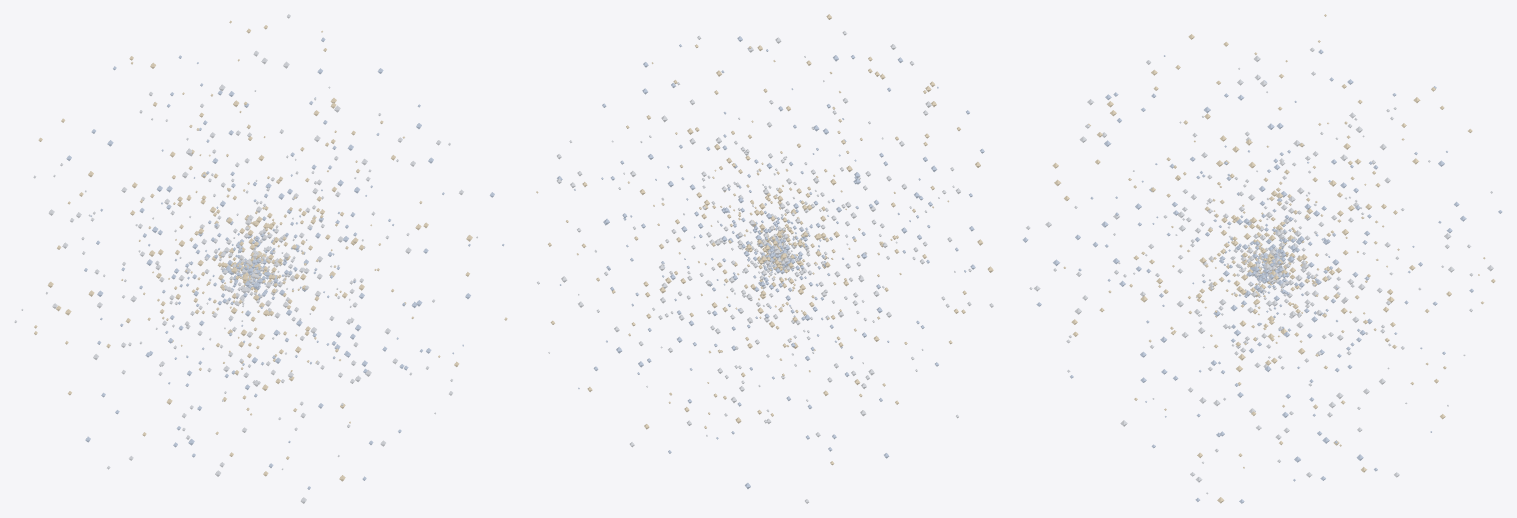
3 views of the same model, side by side, from view 1: azimuth 30°, elevation 25°; view 2: azimuth 150°, elevation 25°; view 3: azimuth 270°, elevation 25° (orthographic). The views are drawn at different scales.
Size of the model in its own units: 4.89 by 4.87 by 4.89.
